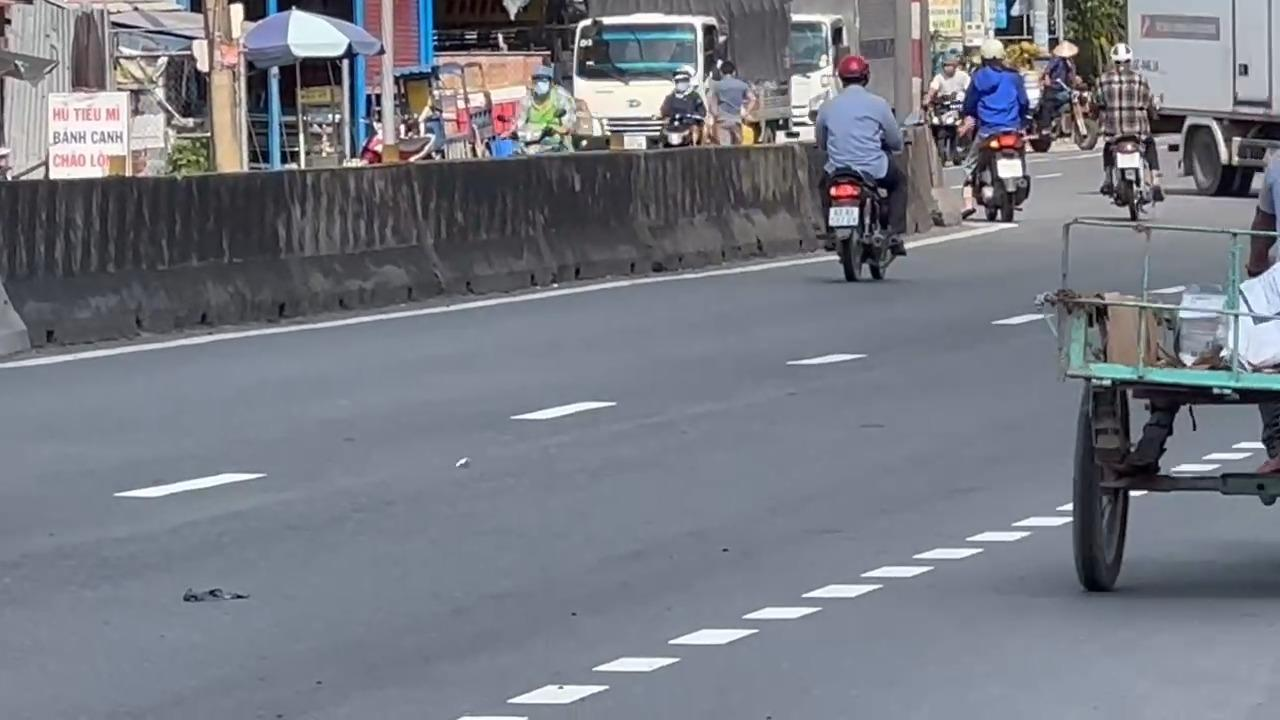bien_so: (826, 204, 859, 227)
